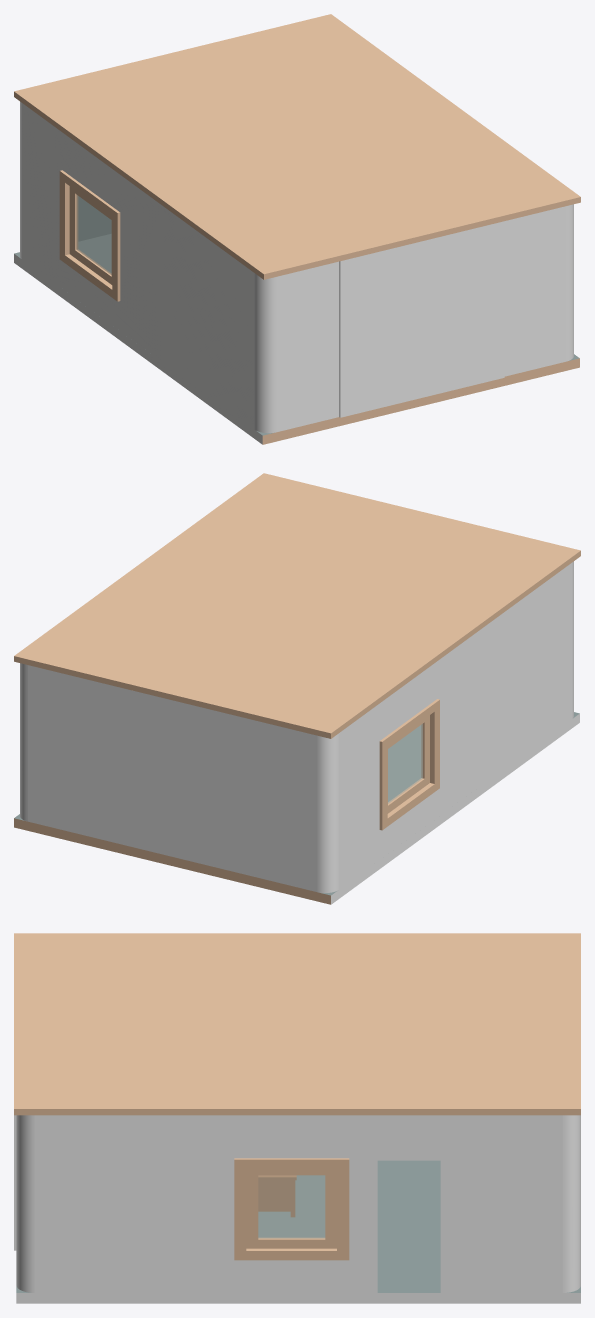
Rendered from notbad.glb.
3 views of the same model, one above another, from view 1: azimuth 30°, elevation 25°; view 2: azimuth 150°, elevation 25°; view 3: azimuth 270°, elevation 25° (orthographic). The views are drawn at different scales.
Visible parts, largest first — view 1: floorFull(Clone), wallCornerRond(Clone), wall(Clone).001, wallWindow(Clone).001, wallCornerRond(Clone).005, wallCornerRond(Clone).002, Floor.002, window.001; view 2: floorFull(Clone), wallCornerRond(Clone).002, wallCornerRond(Clone), wallWindow(Clone).001, wallCornerRond(Clone).007, Floor.002, window.001; view 3: floorFull(Clone), wallWindow(Clone), wallCornerRond(Clone).005, wallCornerRond(Clone).007, Floor.002, window, wall(Clone).004, desk.
Boxes of the visible parts, x1=… form: floorFull(Clone): x1=14, y1=14, x2=580, y2=279; wallCornerRond(Clone): x1=163, y1=207, x2=339, y2=433; wall(Clone).001: x1=339, y1=221, x2=504, y2=417; wallWindow(Clone).001: x1=53, y1=126, x2=163, y2=362; wallCornerRond(Clone).005: x1=504, y1=204, x2=573, y2=376; wallCornerRond(Clone).002: x1=20, y1=101, x2=111, y2=282; Floor.002: x1=14, y1=234, x2=579, y2=444; window.001: x1=69, y1=186, x2=112, y2=284; floorFull(Clone): x1=14, y1=473, x2=580, y2=738; wallCornerRond(Clone).002: x1=90, y1=680, x2=370, y2=892; wallCornerRond(Clone): x1=480, y1=561, x2=573, y2=785; wallWindow(Clone).001: x1=370, y1=630, x2=480, y2=866; wallCornerRond(Clone).007: x1=20, y1=663, x2=90, y2=836; Floor.002: x1=14, y1=712, x2=579, y2=904; window.001: x1=387, y1=715, x2=429, y2=813; floorFull(Clone): x1=14, y1=933, x2=580, y2=1115; wallWindow(Clone): x1=174, y1=1115, x2=377, y2=1292; wallCornerRond(Clone).005: x1=16, y1=1115, x2=173, y2=1292; wallCornerRond(Clone).007: x1=440, y1=1115, x2=580, y2=1292; Floor.002: x1=16, y1=1160, x2=580, y2=1303; window: x1=246, y1=1168, x2=336, y2=1248; wall(Clone).004: x1=377, y1=1115, x2=440, y2=1160; desk: x1=258, y1=1175, x2=296, y2=1217.
Size of the model in its own units: 11.6 by 5.89 by 15.57.
